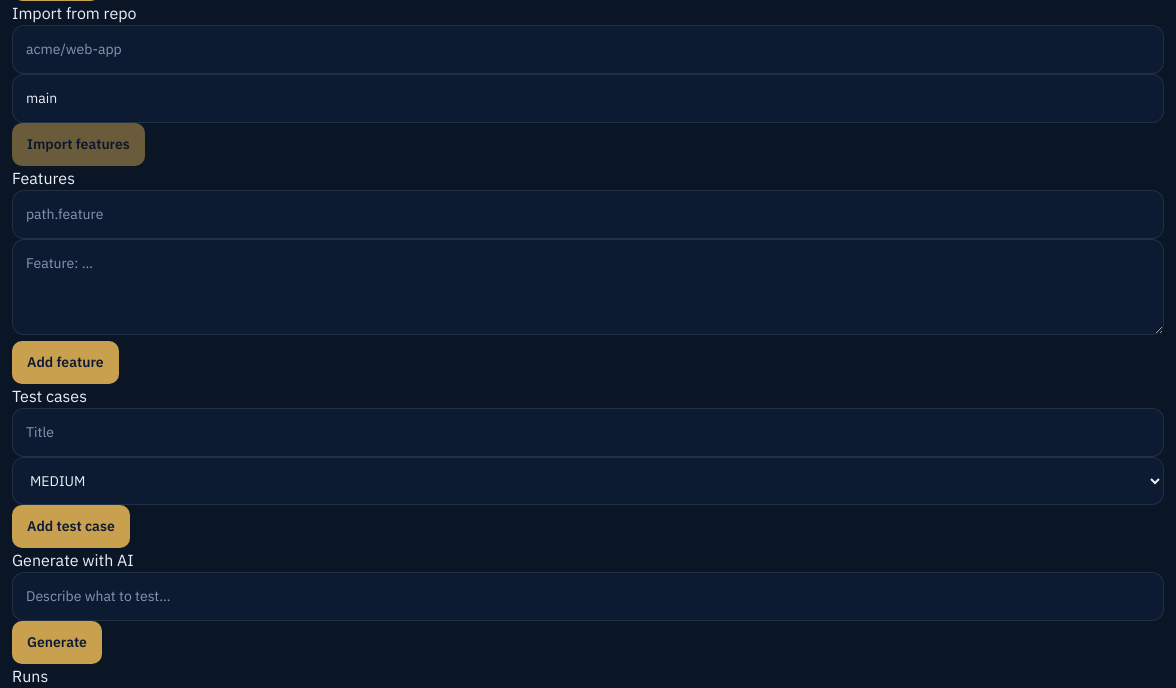
Scenario: TestLabScreen › generates drafts
(page scrolled)
Type "a checkout flow" into the field named "Prompt" at (588, 596), box [12, 572, 1164, 620]
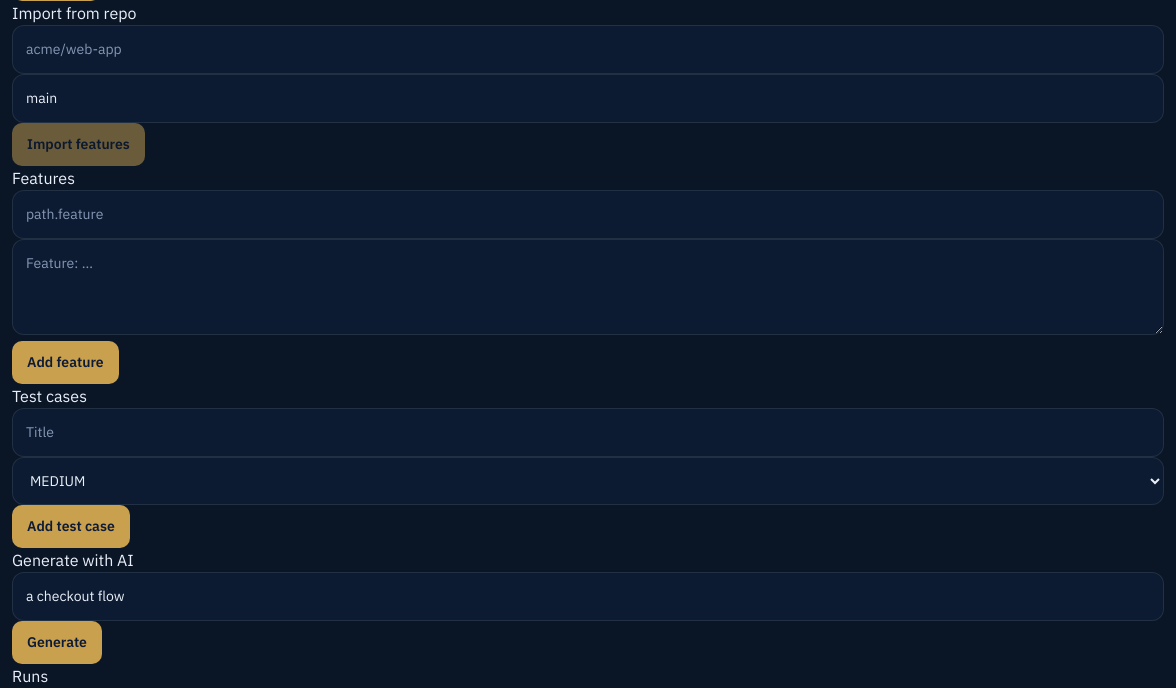
Click the button "Generate" at (57, 642), box [12, 620, 102, 664]
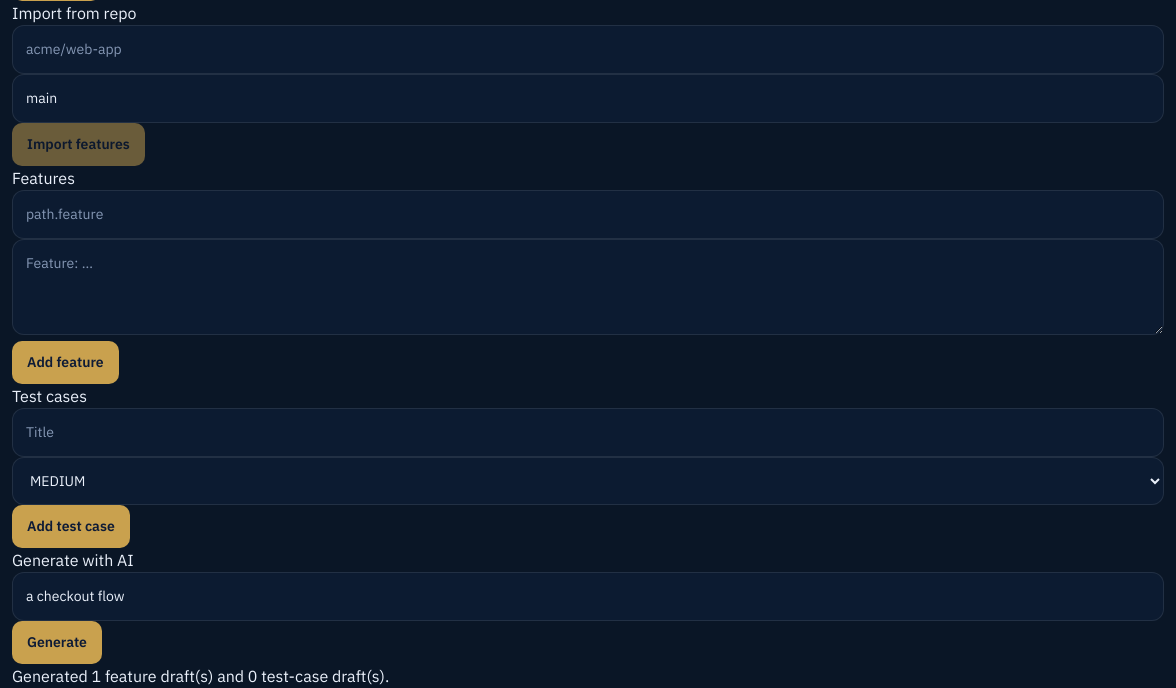
Check: the text "Generated 1 feature draft(s) and 0 test-case draft(s)." is shown, box [12, 666, 389, 686]
